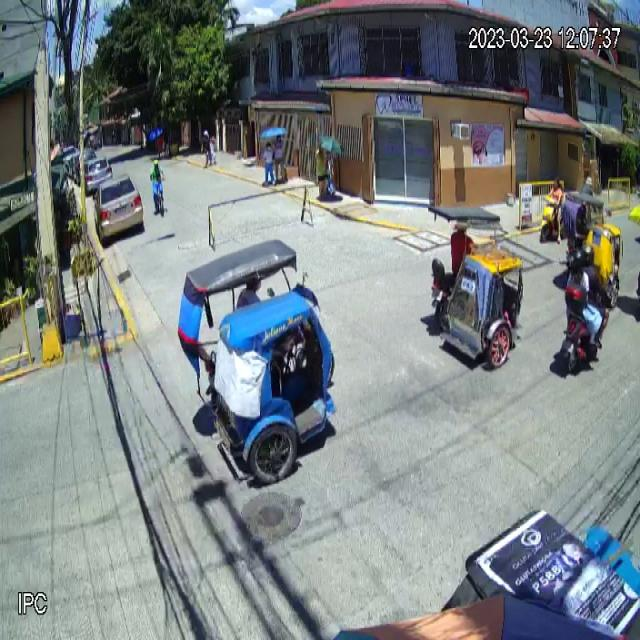Tricycle: (178, 238, 337, 483), (426, 204, 524, 368)
